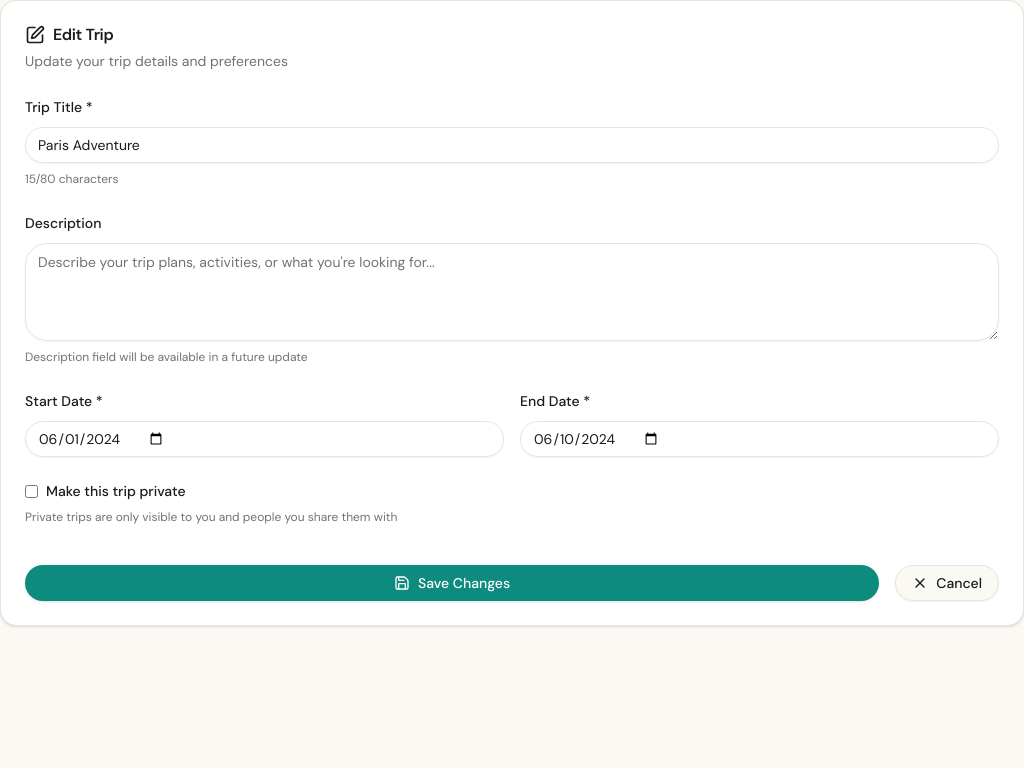
it: TripEditForm › should show unsaved changes indicator when form is modified
expect the text "You have unsaved changes" is not shown: met
Note: Modify title
Replace the text in the field showing "Paris Adventure" with "Modified Title" at [512, 145], box [25,127,999,163]
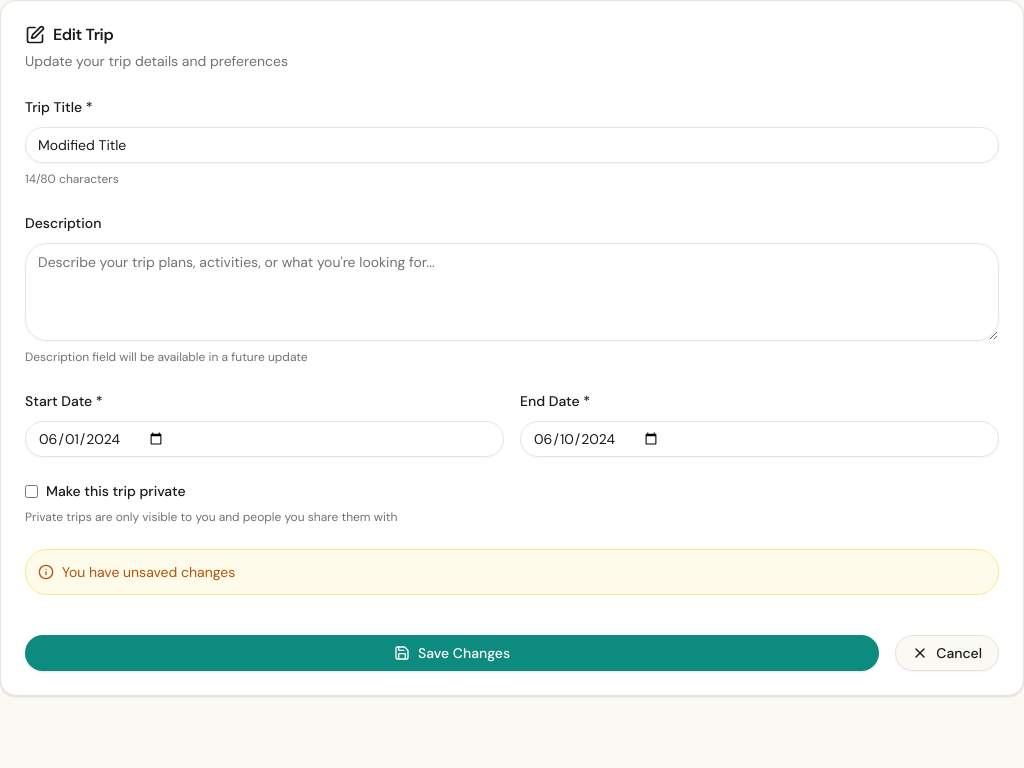
expect the text "You have unsaved changes" is shown: met, box [62,562,235,582]
